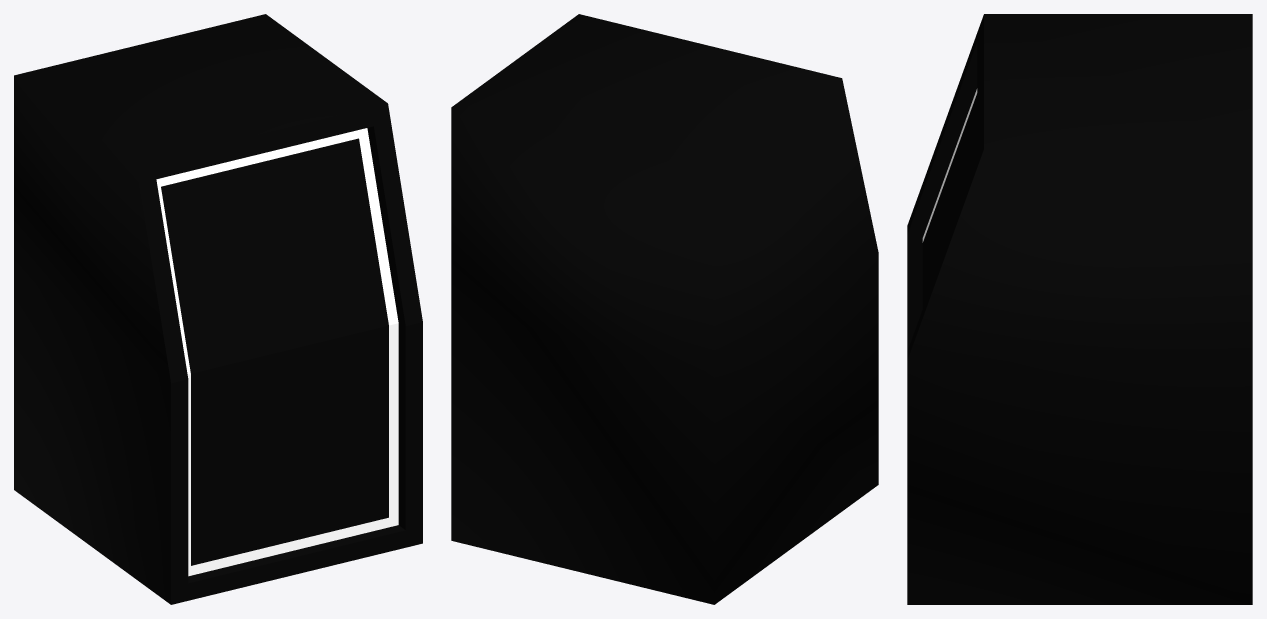
File: SpeakerCabinet.glb
The picture shows the model from 3 angles, left to right: view 1: azimuth 30°, elevation 25°; view 2: azimuth 150°, elevation 25°; view 3: azimuth 270°, elevation 25°; orthographic projection. The views are drawn at different scales.
Visible parts, largest first — view 1: SpeakerCabinet; view 2: SpeakerCabinet; view 3: SpeakerCabinet.
Part boxes in pixels (x1,y1,x2,y2): SpeakerCabinet: [14, 14, 422, 604]; SpeakerCabinet: [451, 14, 878, 604]; SpeakerCabinet: [907, 14, 1252, 604].
Size of the model in its own units: 0.8266 by 1.3 by 0.8933.
1 material, 1 textured.
